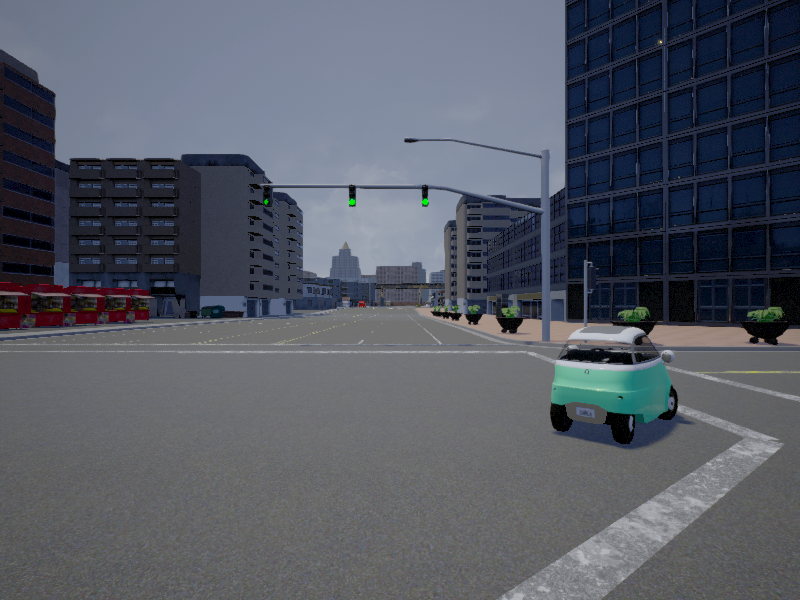Benign: (550, 325, 677, 444)
